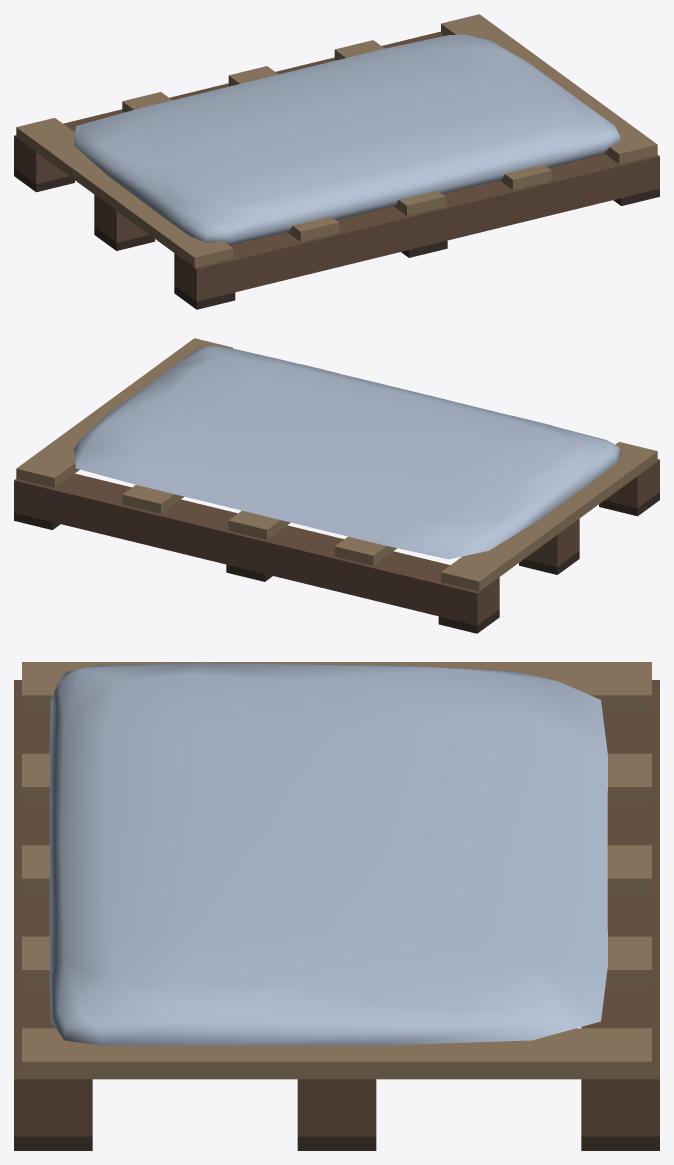
Rendered from pallet.glb.
The picture shows the model from 3 angles, top to bottom: view 1: azimuth 30°, elevation 25°; view 2: azimuth 150°, elevation 25°; view 3: azimuth 270°, elevation 25°; orthographic projection. The views are drawn at different scales.
Parts seen in each view (by area): view 1: Prop; view 2: Prop; view 3: Prop.
Boxes of the visible parts, x1=… form: Prop: x1=14, y1=14, x2=659, y2=309; Prop: x1=14, y1=338, x2=659, y2=633; Prop: x1=14, y1=662, x2=659, y2=1150.
Size of the model in its own units: 1.2 by 0.1754 by 0.82.
